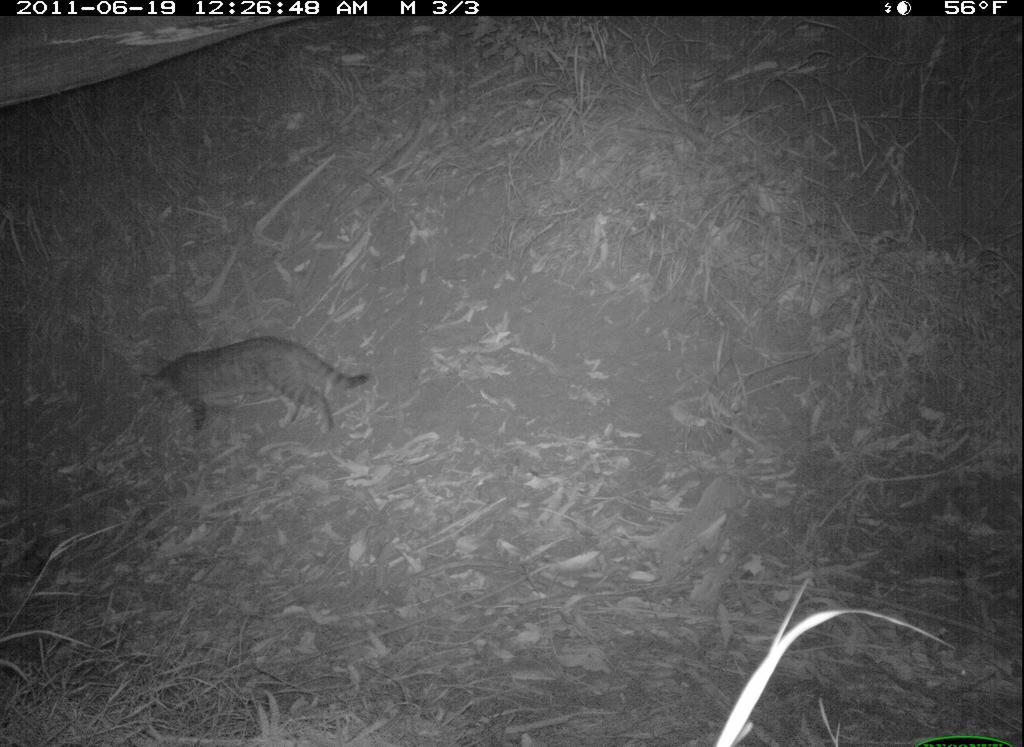cat: (130, 331, 396, 443)
